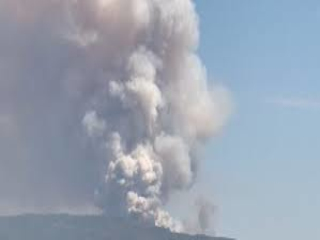smoke: (63, 6, 222, 226)
